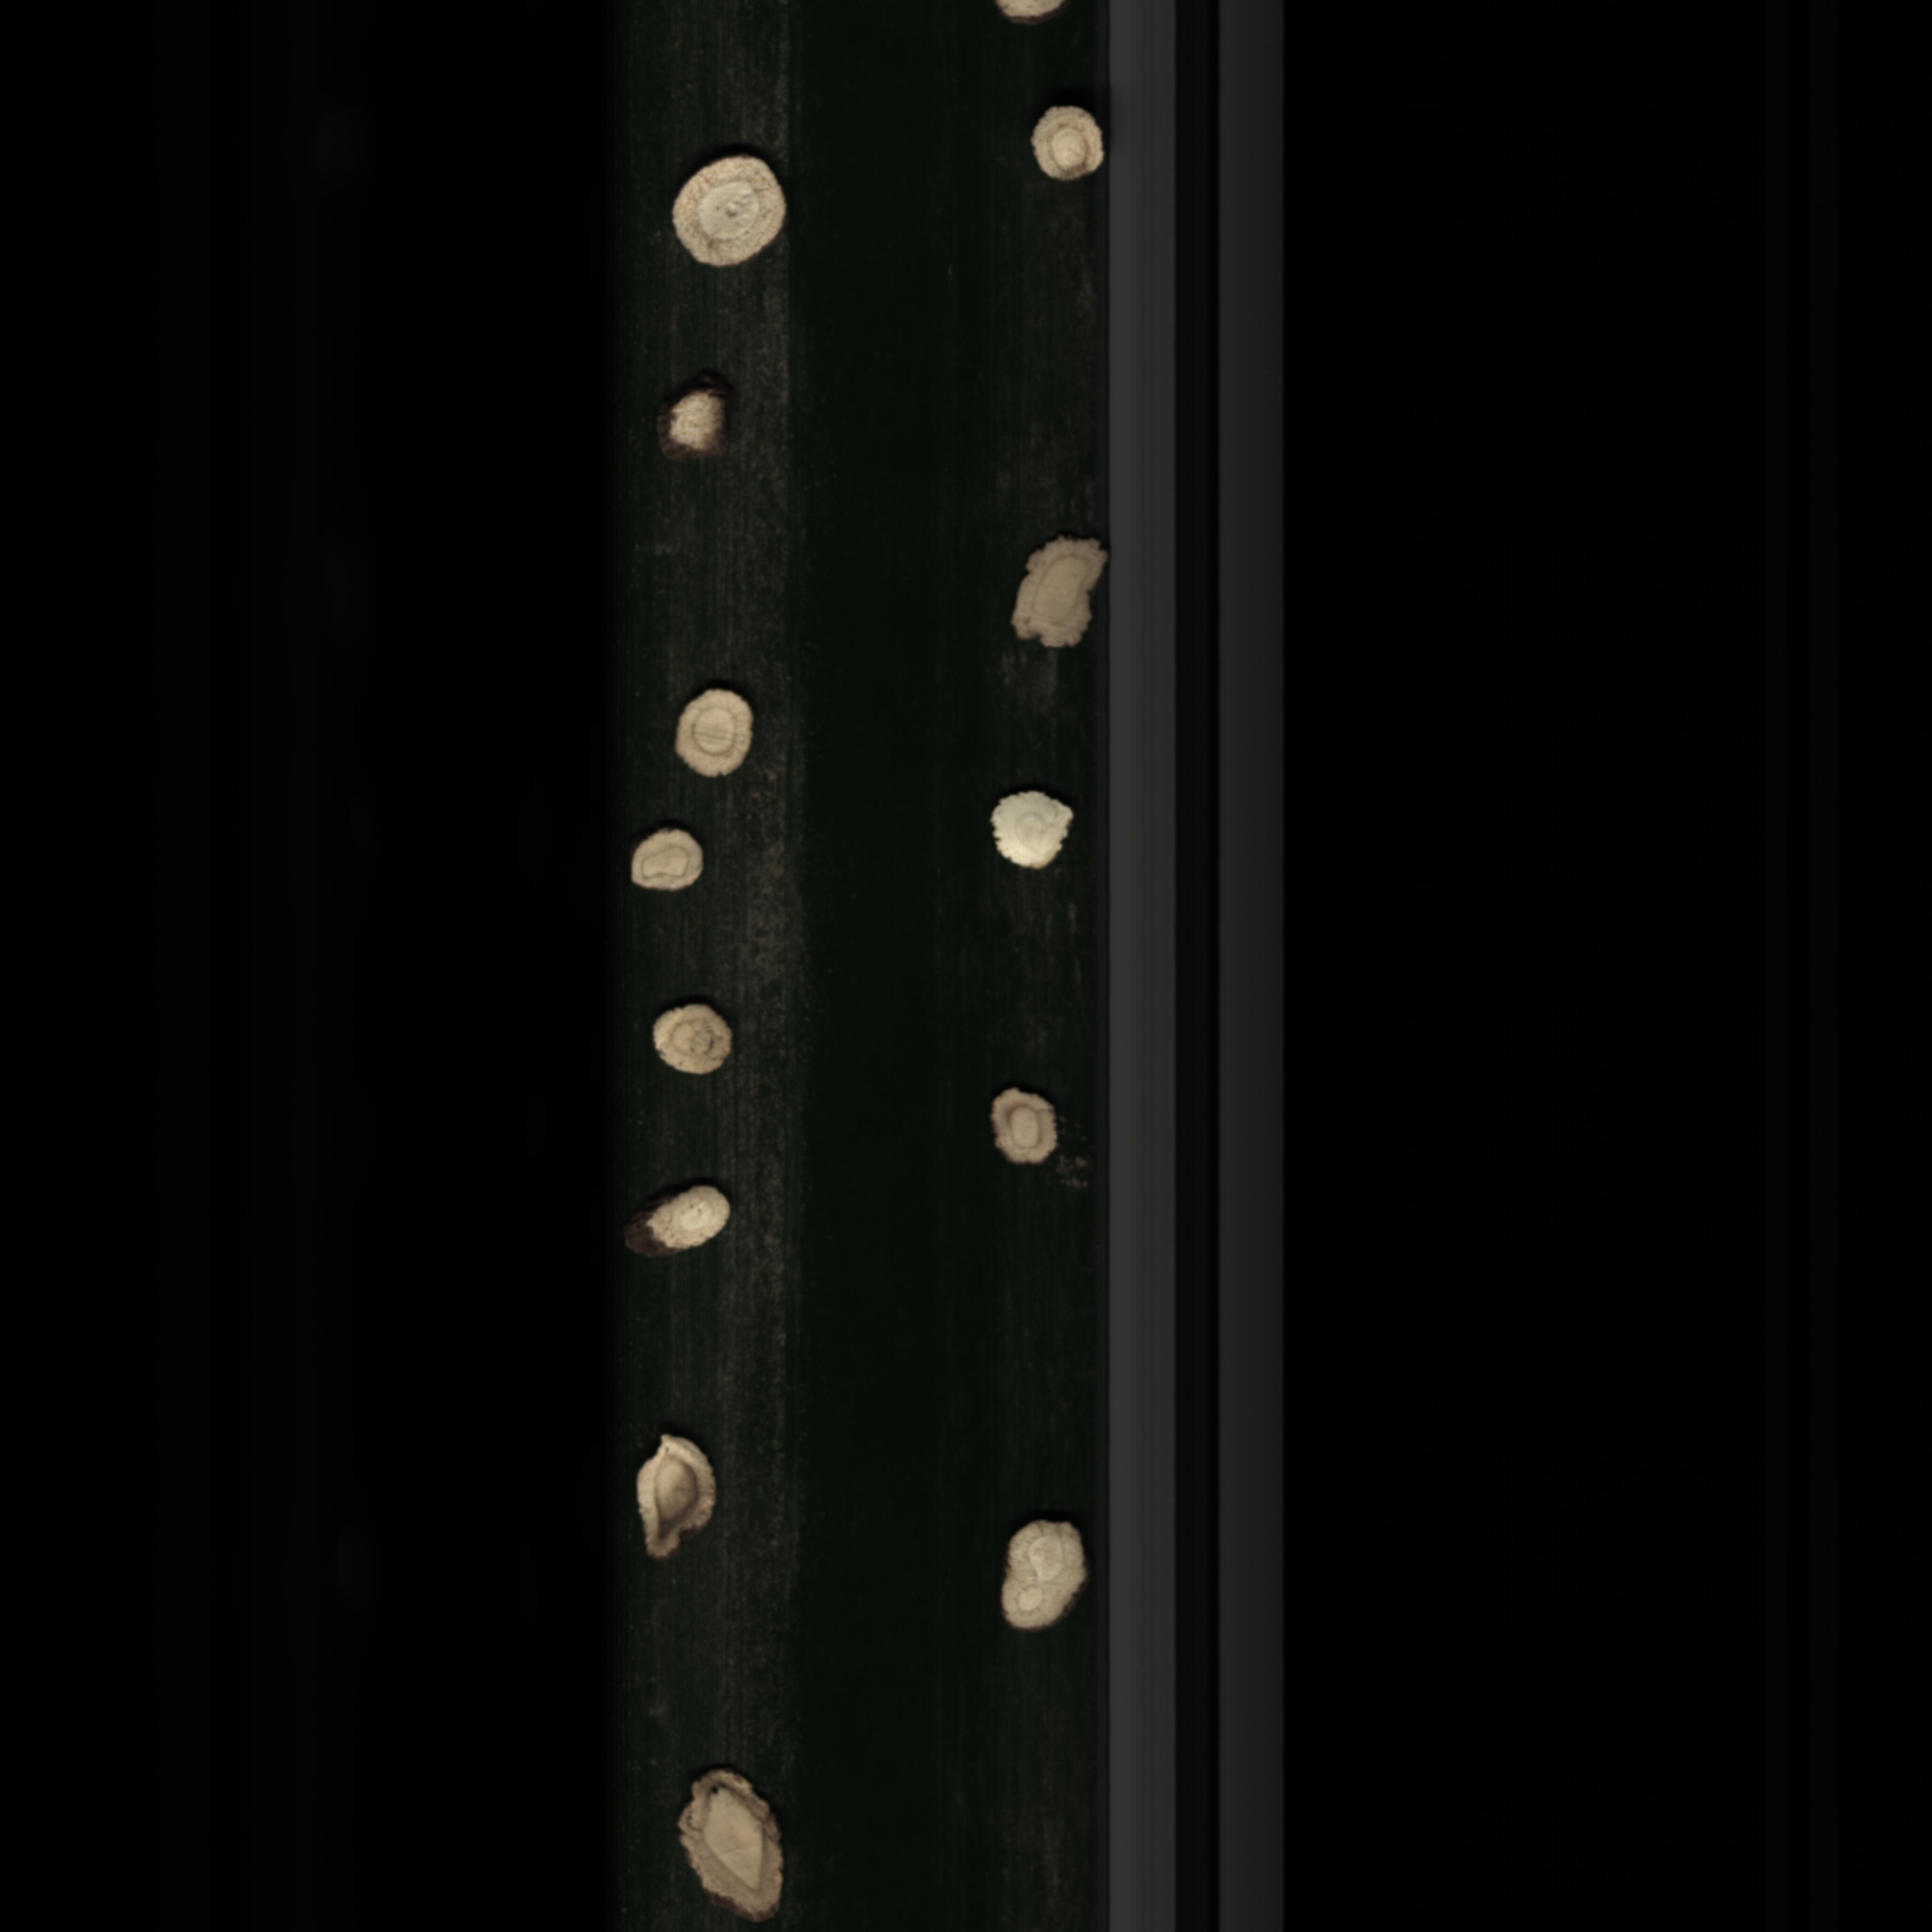bark: (619, 1161, 736, 1270), (653, 377, 750, 469)
distortion: (1012, 527, 1111, 656)
moldy: (669, 1769, 814, 1923), (628, 1424, 734, 1568)
